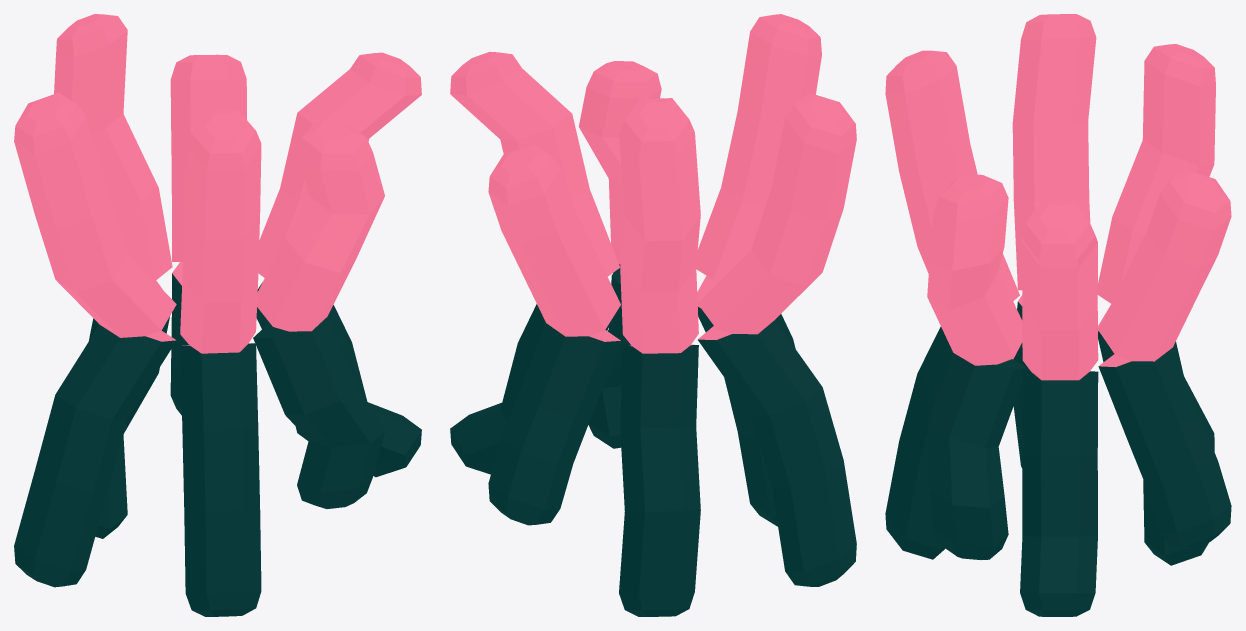
The model's file is grass_type_02.glb.
3 views of the same model, side by side, from view 1: azimuth 30°, elevation 25°; view 2: azimuth 150°, elevation 25°; view 3: azimuth 270°, elevation 25° (orthographic).
Visible parts, largest first — view 1: Cylinder; view 2: Cylinder; view 3: Cylinder.
Part boxes in pixels (x1,y1,x2,y2): Cylinder: [14, 14, 421, 616]; Cylinder: [450, 14, 856, 616]; Cylinder: [885, 14, 1231, 616].
Bounding box in the file's own units: 1.33 × 1.68 × 1.03.
